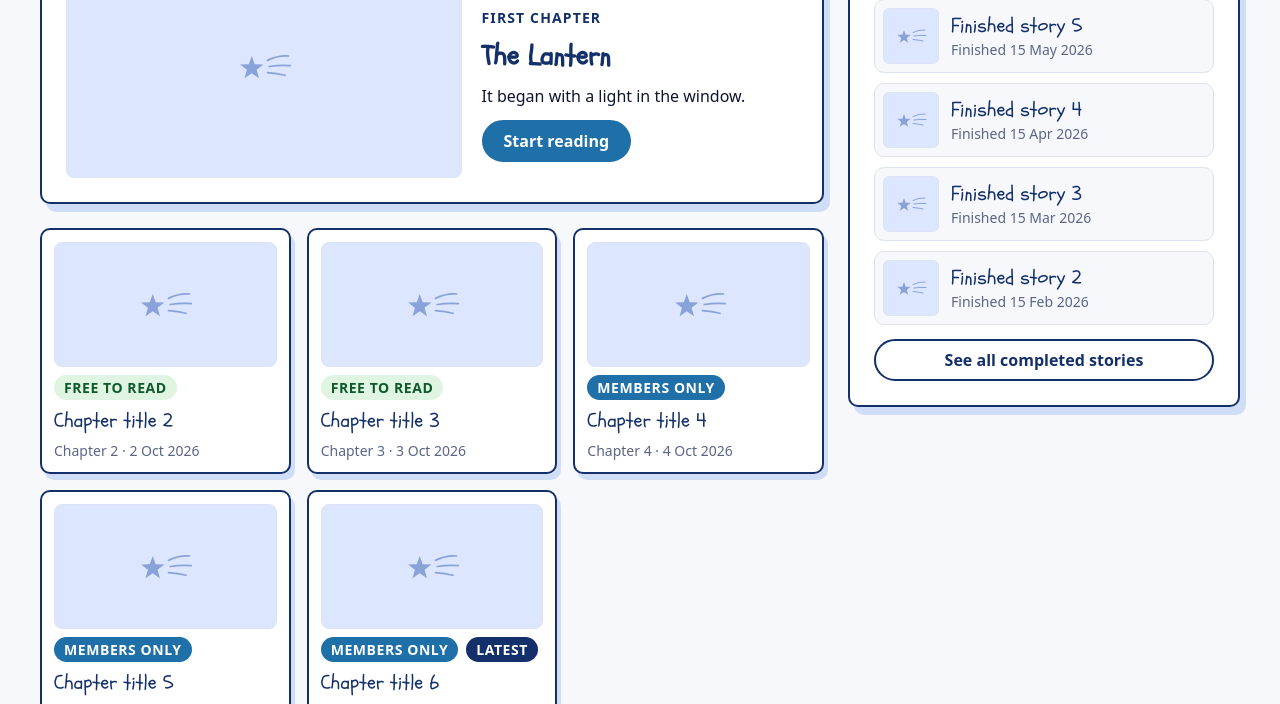
the finished stories › lists four, the most recently finished first, with the date, and a button for all of them
(page scrolled)
Check: the text "Finished 15 May 2026" is shown, box x1=951 y1=40 x2=1093 y2=59
What coordinates should you click on to do the following:
click the button "See all completed stories"
I would click on:
 (1044, 360)
Its box is x1=874 y1=339 x2=1214 y2=381.
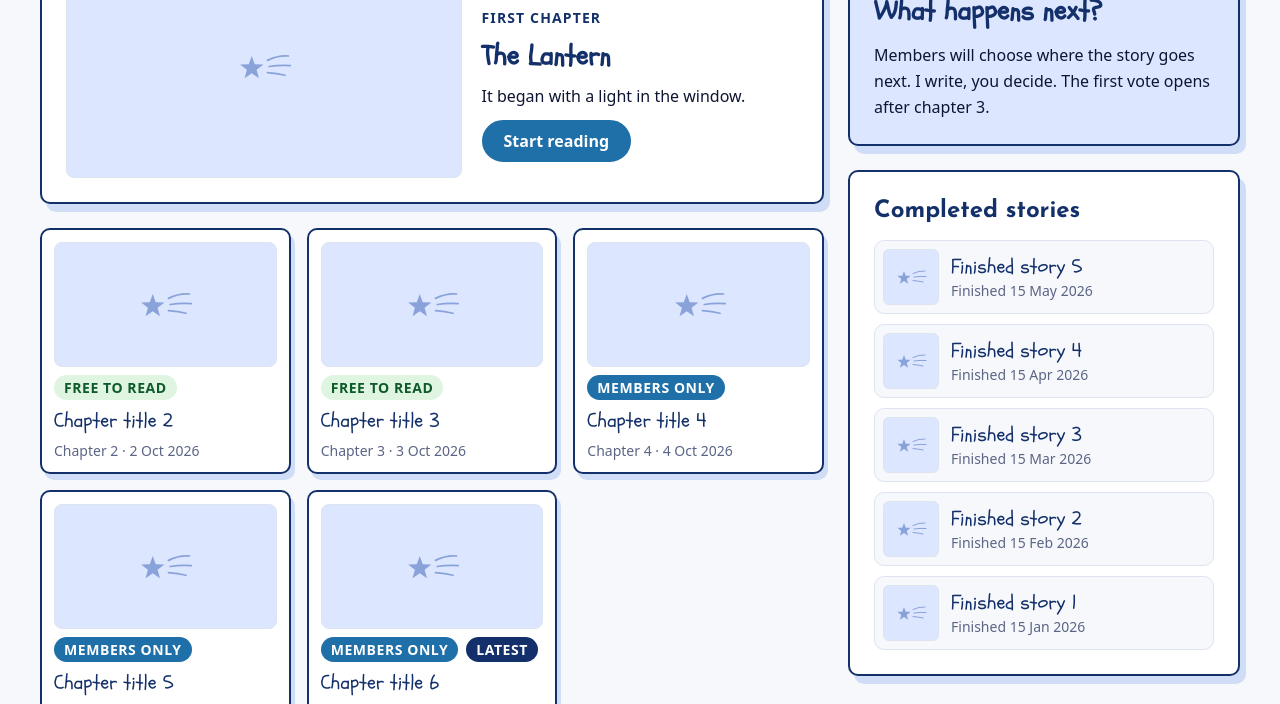
Check: the button "See all completed stories" is gone
